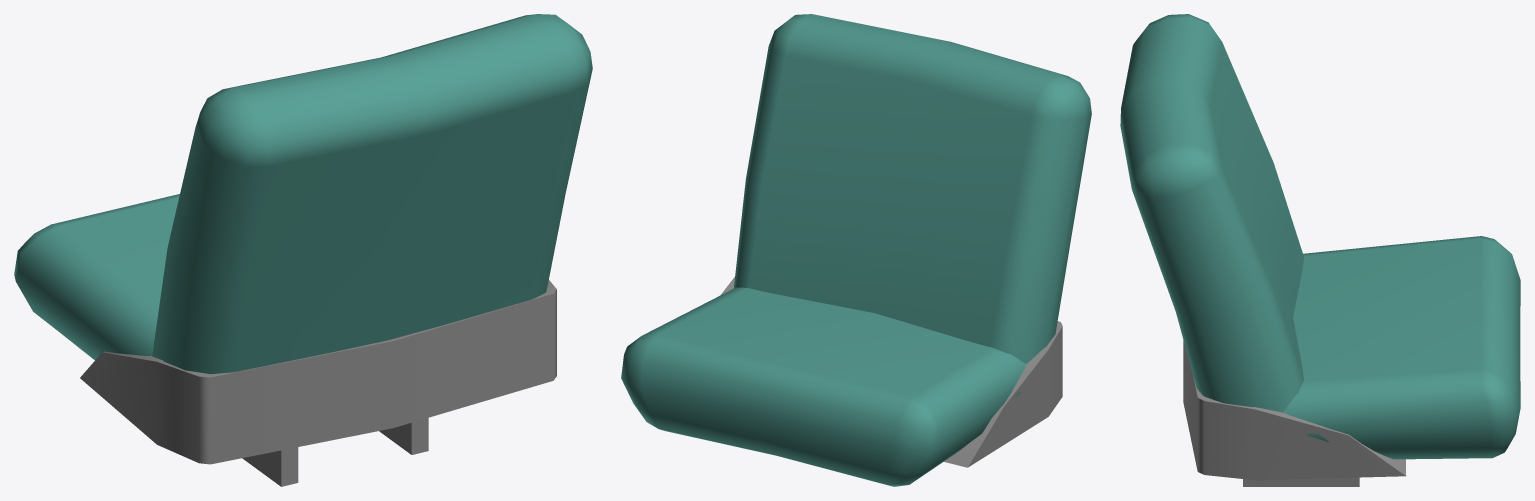
File: seat_export.fbx
3 views of the same model, side by side, from view 1: azimuth 30°, elevation 25°; view 2: azimuth 150°, elevation 25°; view 3: azimuth 270°, elevation 25° (orthographic). The views are drawn at different scales.
Parts seen in each view (by area): view 1: seat_cushion2, seat_metal1, seat_cushion1, seat_metal2, seat_metal3; view 2: seat_cushion2, seat_cushion1, seat_metal1; view 3: seat_cushion2, seat_cushion1, seat_metal1, seat_metal3.
Part boxes in pixels (x1,y1,x2,y2): seat_cushion2: (152, 14, 592, 374); seat_metal1: (80, 280, 556, 464); seat_cushion1: (14, 194, 179, 370); seat_metal2: (242, 447, 298, 486); seat_metal3: (379, 418, 428, 454); seat_cushion2: (733, 14, 1091, 363); seat_cushion1: (621, 287, 1025, 486); seat_metal1: (720, 277, 1062, 467); seat_cushion2: (1120, 14, 1303, 412); seat_cushion1: (1283, 236, 1520, 459); seat_metal1: (1183, 340, 1406, 480); seat_metal3: (1243, 477, 1359, 486).
Bounding box in the file's own units: 0.0491 × 0.0532 × 0.0514.
